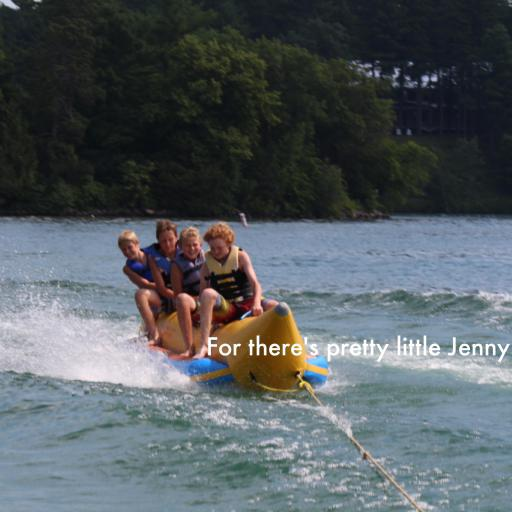Futura: (206, 335, 510, 362)
